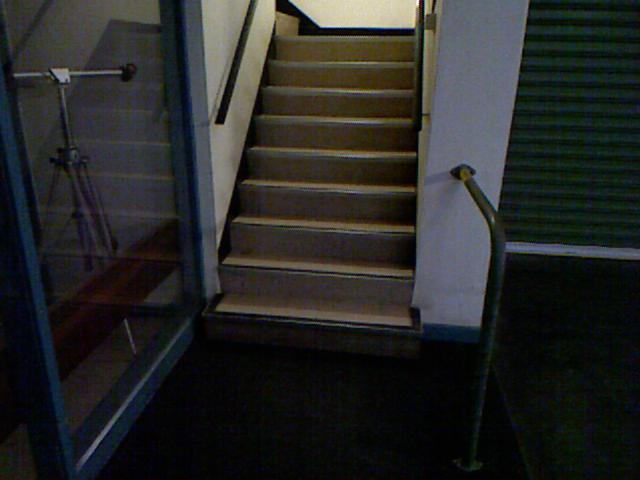Escaleras: (203, 36, 415, 355)
